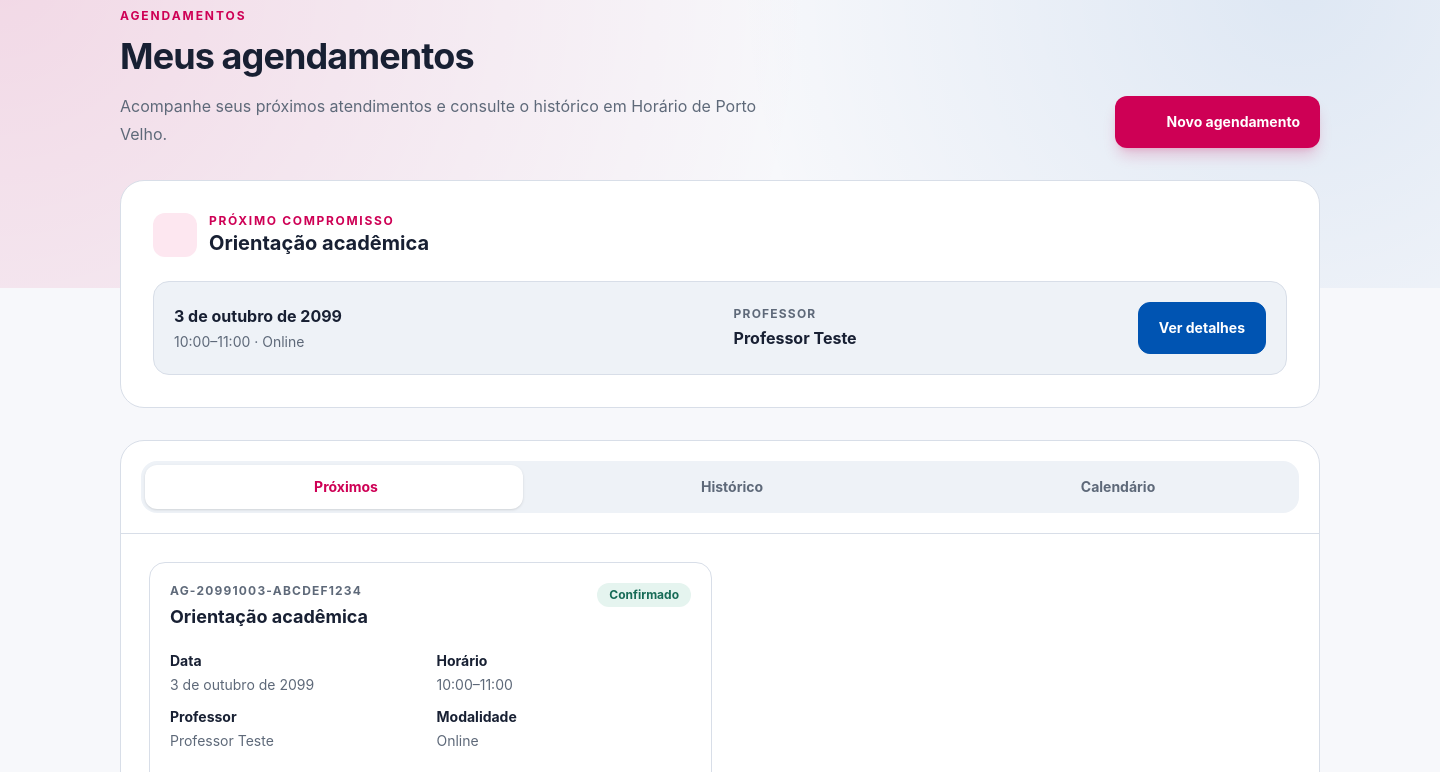
Test case: MyAppointmentsView › alterna para histórico e calendário usando consultas próprias
The image size is (1440, 772).
Click the tab "Histórico" at (720, 487), box [531, 465, 909, 509]
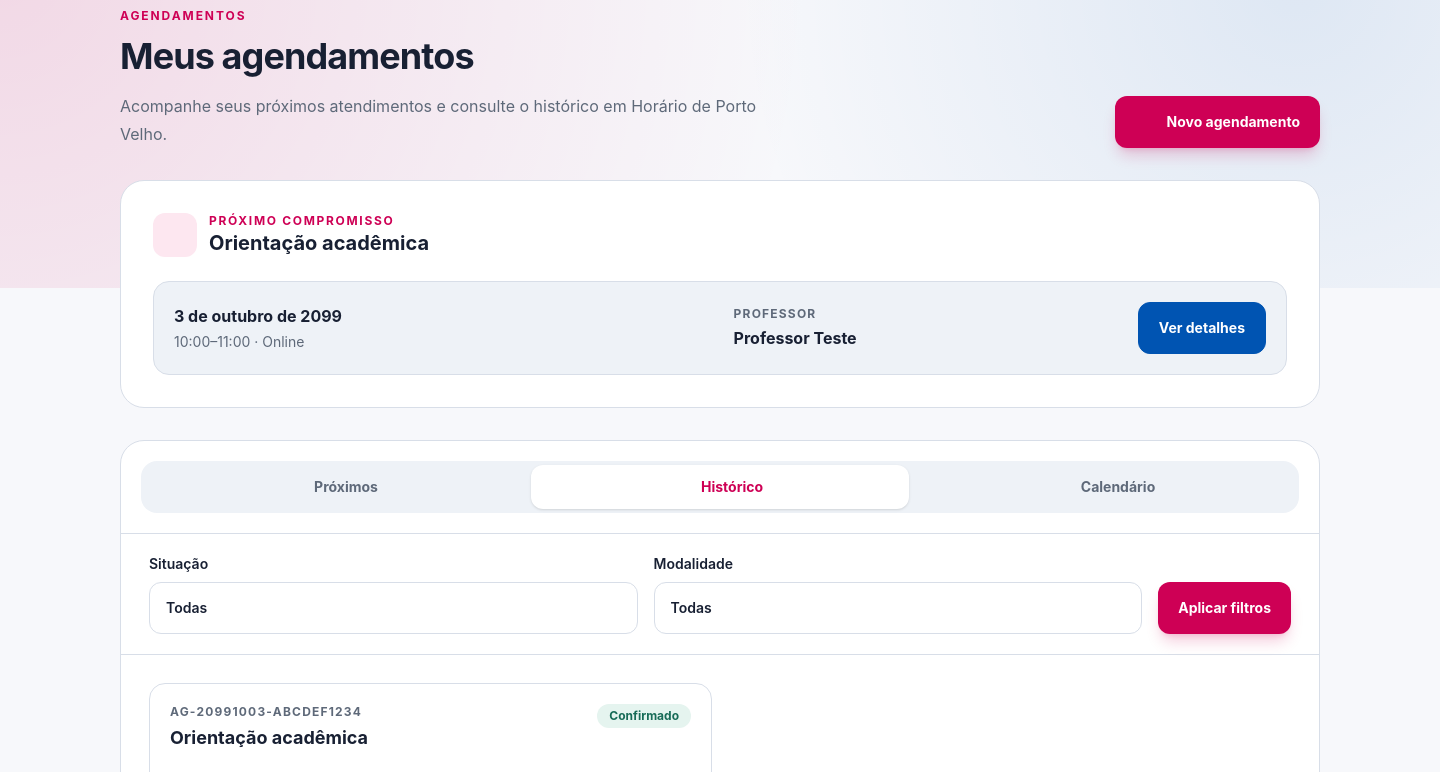
Click the tab "Calendário" at (1106, 487), box [917, 465, 1295, 509]
(page scrolled)
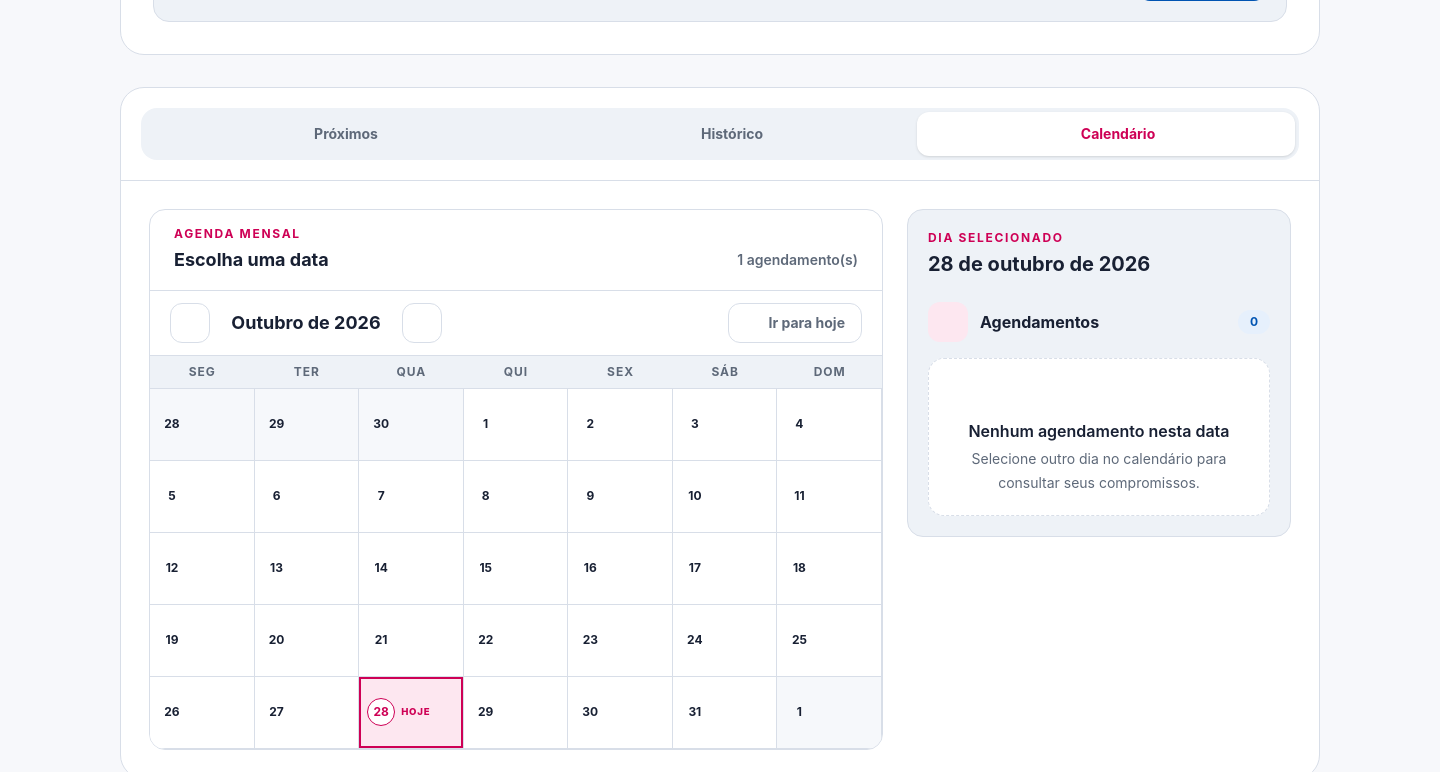
Check: the element with test id "calendar-day-summary" shows "Nenhum agendamento nesta data", box [968, 421, 1230, 441]
